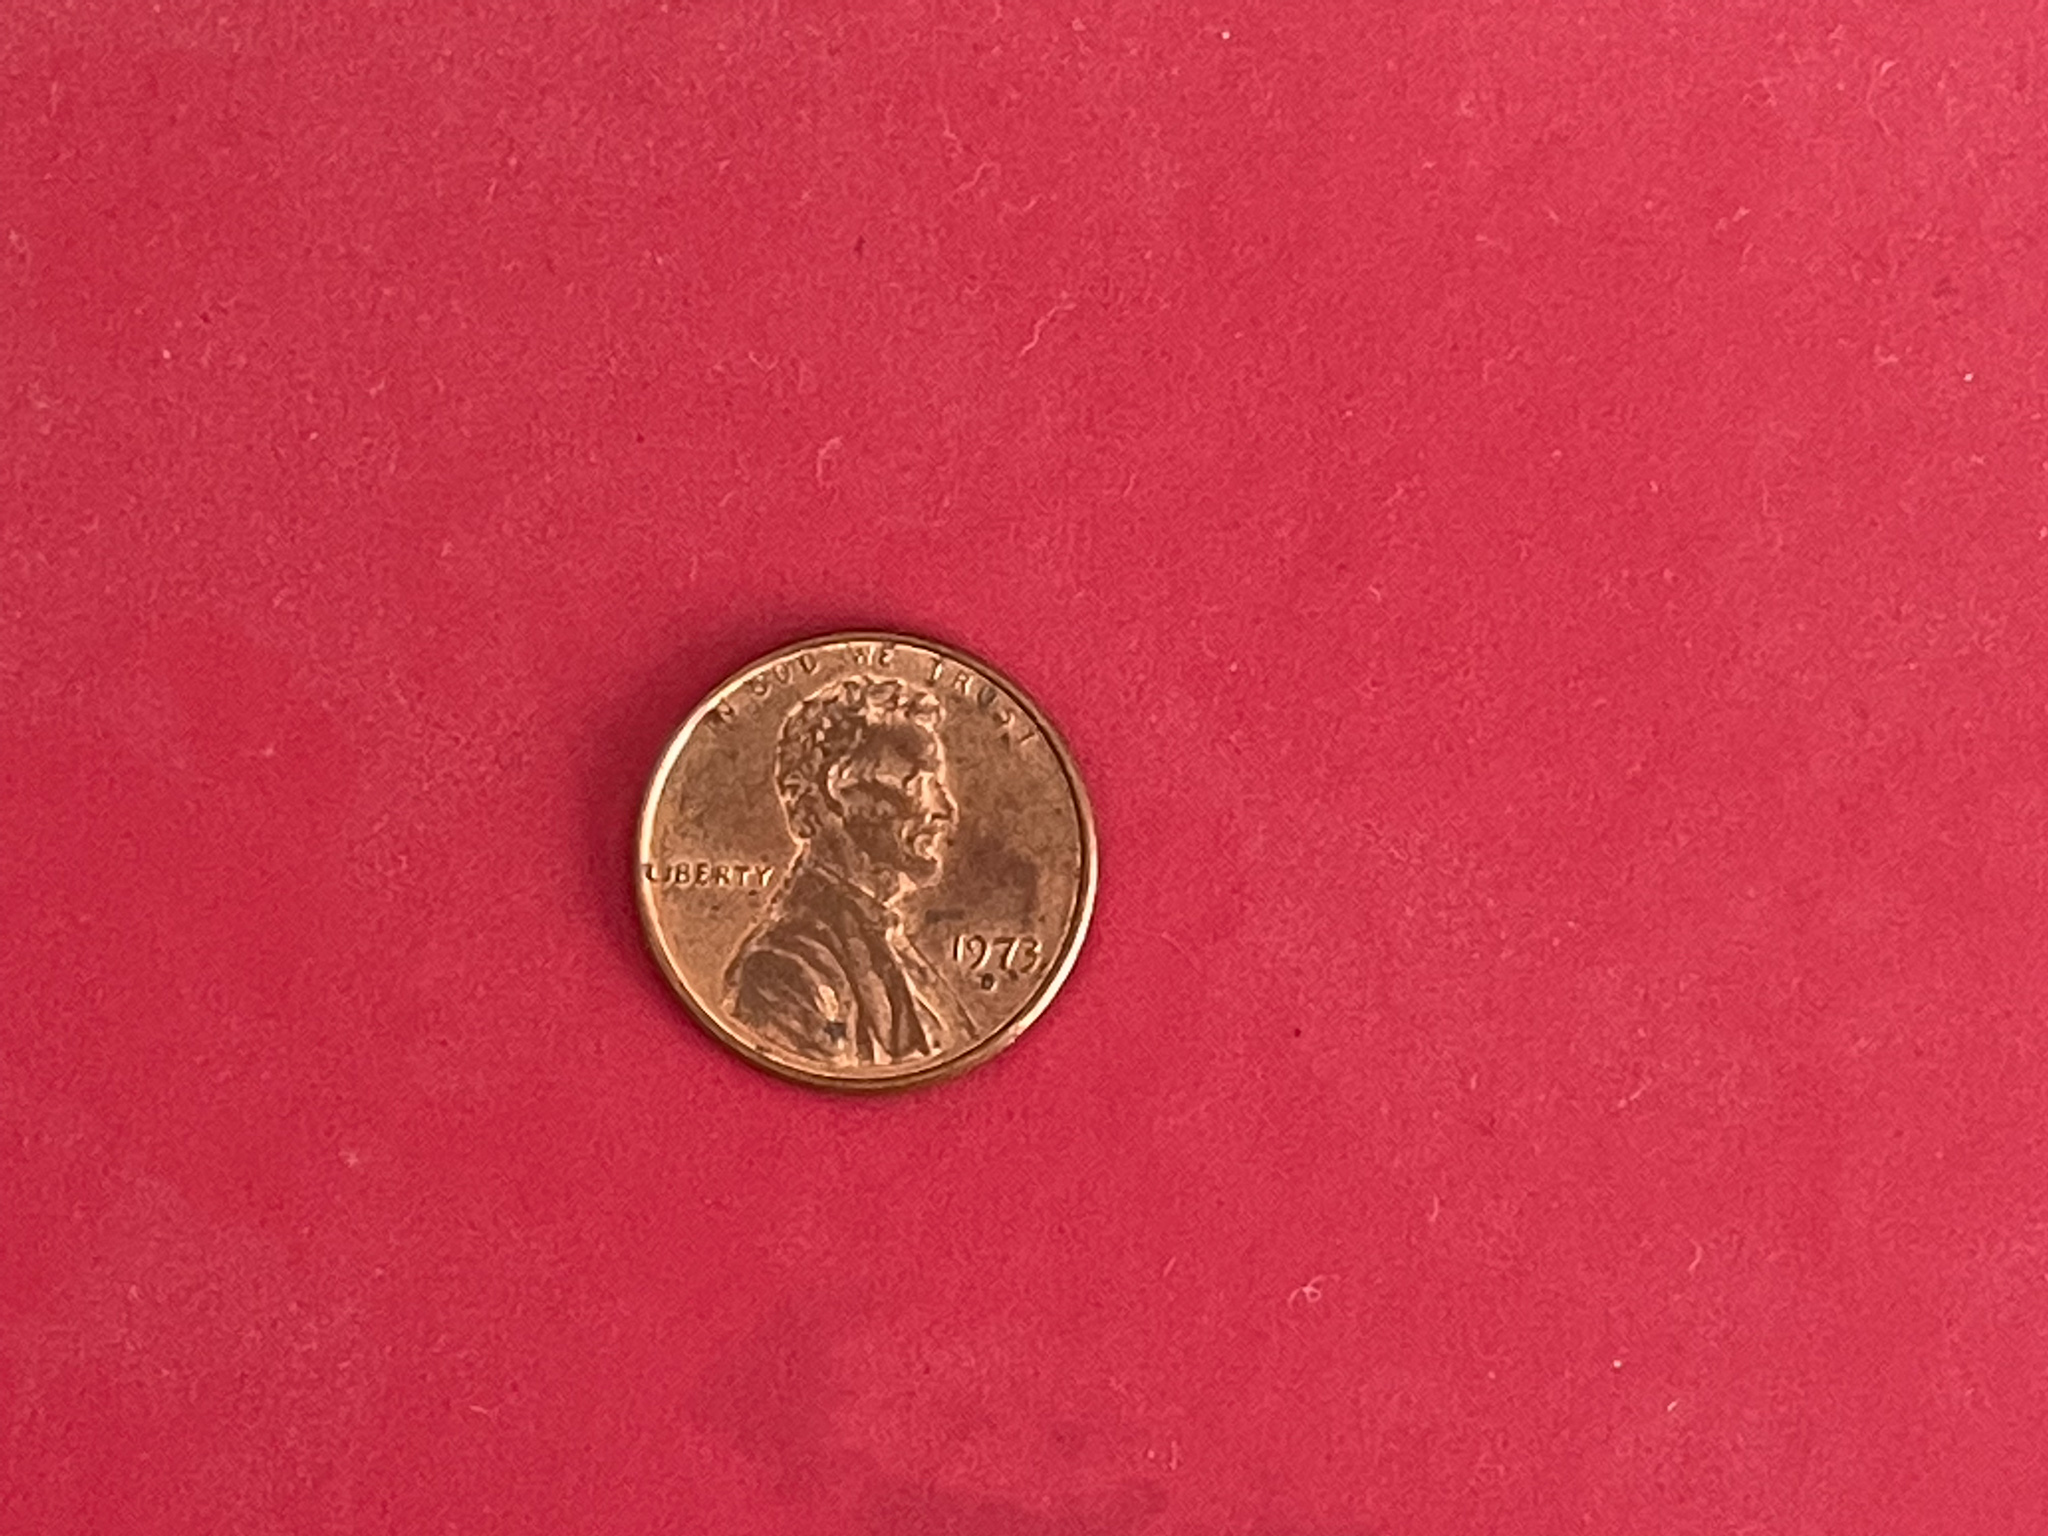penny: (627, 623, 1103, 1094)
